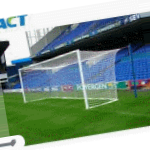goals: (17, 49, 122, 109)
